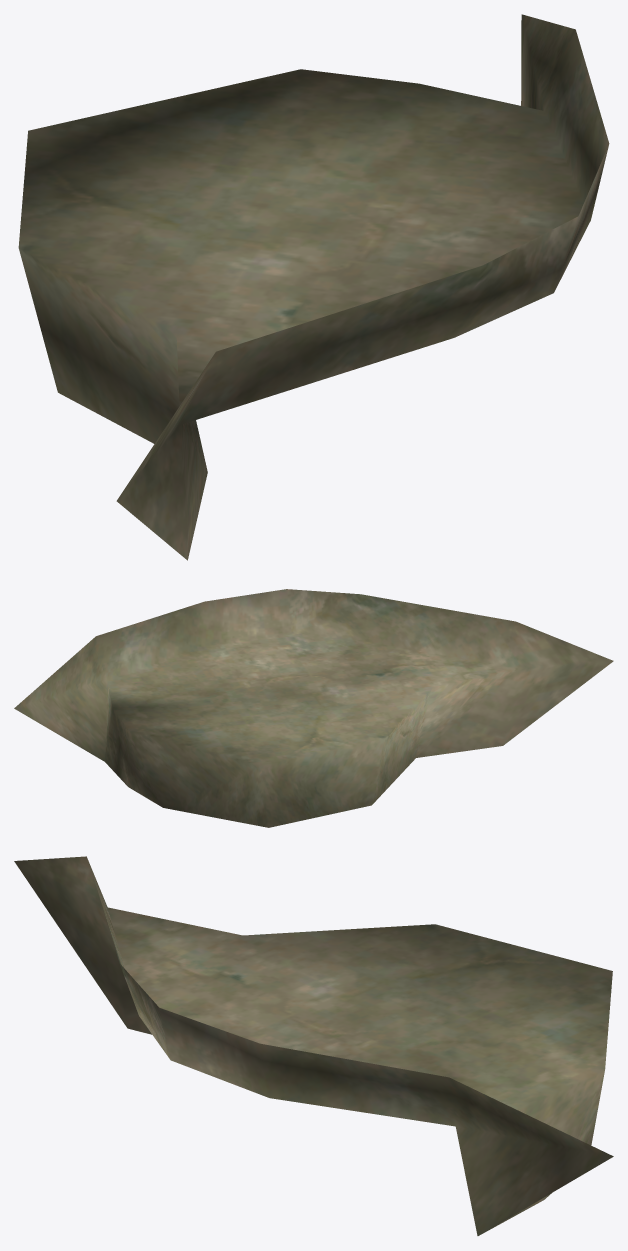
The model's file is EKH_CAVERNS_PS_CA_OBJECT03.fbx.
The picture shows the model from 3 angles, top to bottom: view 1: azimuth 30°, elevation 25°; view 2: azimuth 150°, elevation 25°; view 3: azimuth 270°, elevation 25°; orthographic projection. The views are drawn at different scales.
Parts seen in each view (by area): view 1: EKH_CAVERNS_PS_CA_OBJECT03; view 2: EKH_CAVERNS_PS_CA_OBJECT03; view 3: EKH_CAVERNS_PS_CA_OBJECT03.
Part boxes in pixels (box(x1,y1,x2,y2)): EKH_CAVERNS_PS_CA_OBJECT03: box(18, 14, 609, 560); EKH_CAVERNS_PS_CA_OBJECT03: box(14, 589, 613, 827); EKH_CAVERNS_PS_CA_OBJECT03: box(14, 856, 613, 1235).
Size of the model in its own units: 35653 by 9705 by 30585.
1 material, 1 textured.
